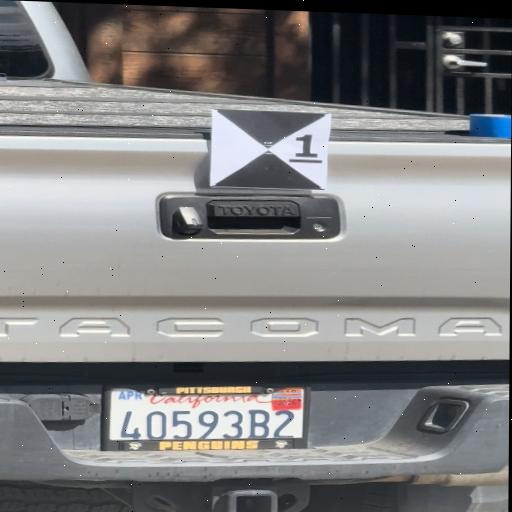target1: (214, 109, 326, 190)
